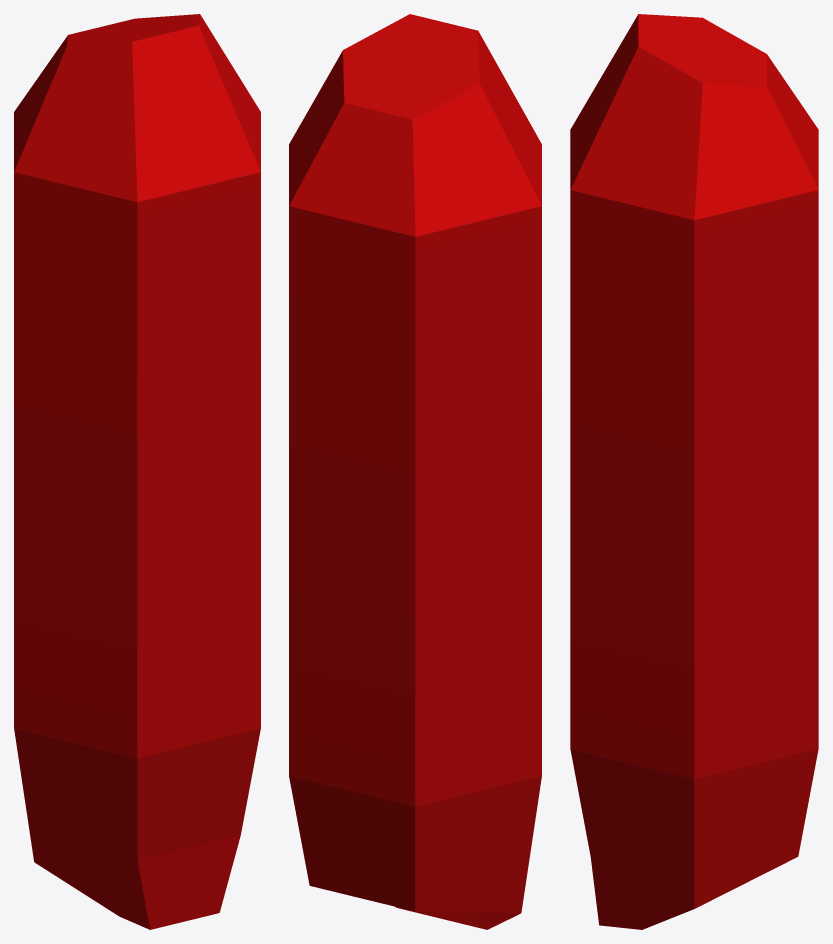
The model's file is geology-crystals-coloredcrystal_v1.fbx.
The picture shows the model from 3 angles, left to right: view 1: azimuth 30°, elevation 25°; view 2: azimuth 150°, elevation 25°; view 3: azimuth 270°, elevation 25°; orthographic projection. The views are drawn at different scales.
Parts seen in each view (by area): view 1: ColoredCrystal_v1; view 2: ColoredCrystal_v1; view 3: ColoredCrystal_v1.
Boxes of the visible parts, bbox=[...] form: ColoredCrystal_v1: bbox=[14, 14, 260, 929]; ColoredCrystal_v1: bbox=[289, 14, 541, 929]; ColoredCrystal_v1: bbox=[570, 14, 818, 929].
Size of the model in its own units: 1.46 by 4.95 by 1.27.
